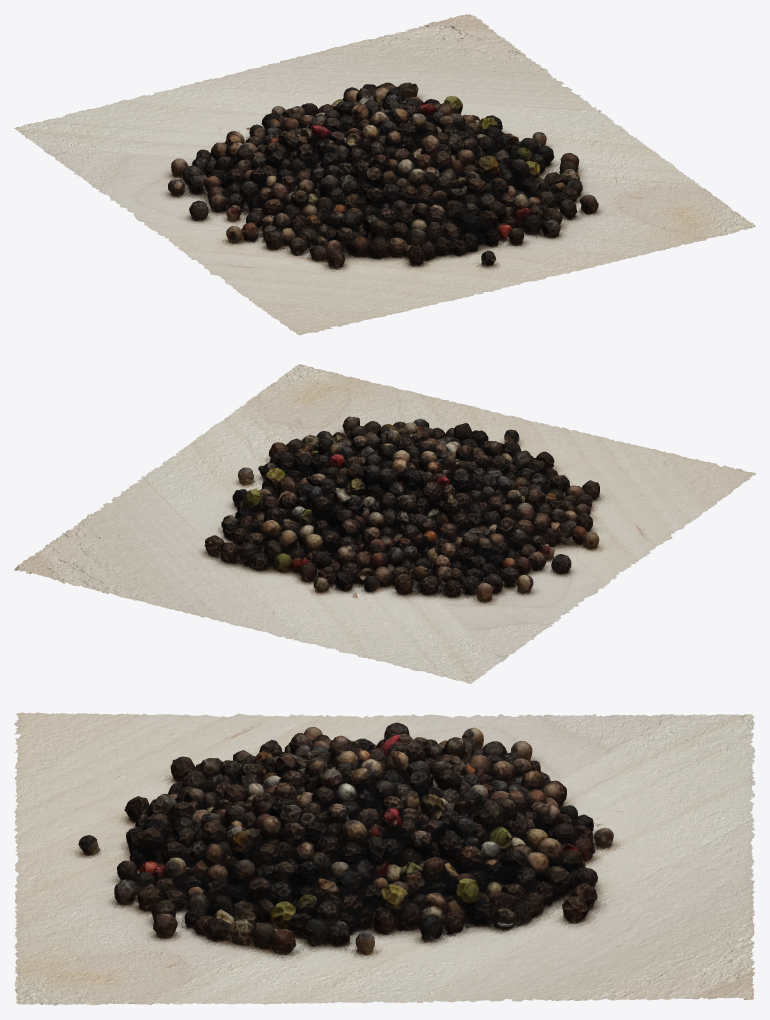
The model's file is spice.glb.
The picture shows the model from 3 angles, top to bottom: view 1: azimuth 30°, elevation 25°; view 2: azimuth 150°, elevation 25°; view 3: azimuth 270°, elevation 25°; orthographic projection. The views are drawn at different scales.
Parts seen in each view (by area): view 1: mesh_Model_7; view 2: mesh_Model_7; view 3: mesh_Model_7.
Boxes of the visible parts, x1,y1,x2,y2 form: mesh_Model_7: (14,14,755,335); mesh_Model_7: (14,364,755,683); mesh_Model_7: (14,712,755,1005).
Bounding box in the file's own units: 35.8 × 6.16 × 38.73.
1 material, 1 textured.
